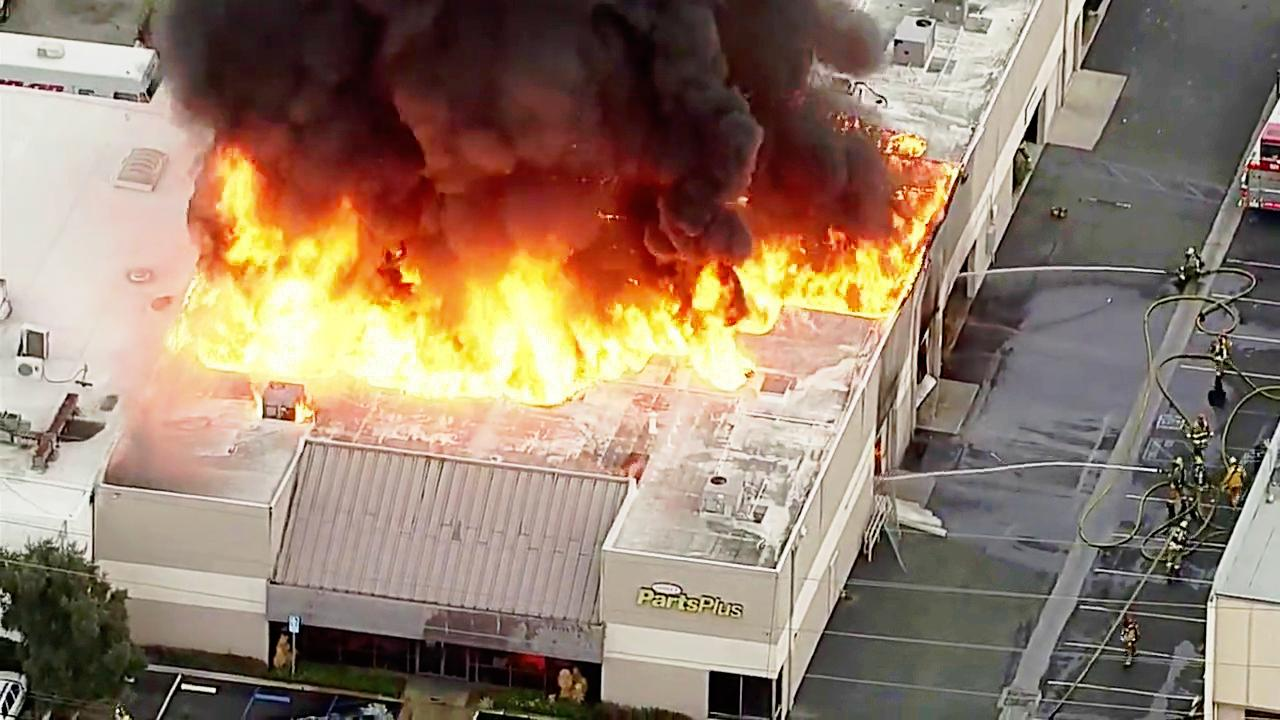fire: (189, 182, 382, 374), (378, 255, 584, 391), (710, 219, 924, 334), (578, 292, 764, 379)
smoke: (290, 0, 802, 170)
